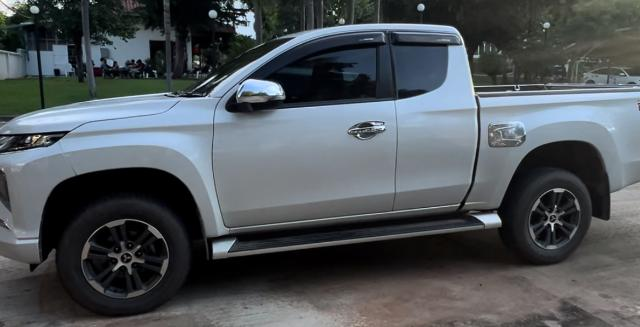pickup-truck: (0, 20, 640, 315)
